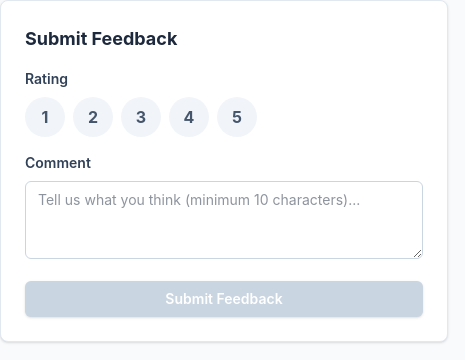
it: FeedbackForm Component › should enable the submit button when a rating is selected
The image size is (465, 360).
Note: Click rating button
Click the button named "Rate 3 stars": (141, 117) [121, 97, 161, 137]
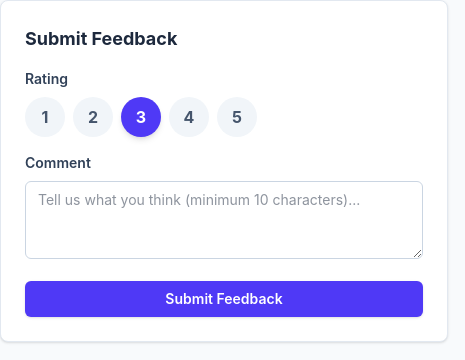
Expected: the button "Submit Feedback" is enabled, [25, 281, 423, 317]
